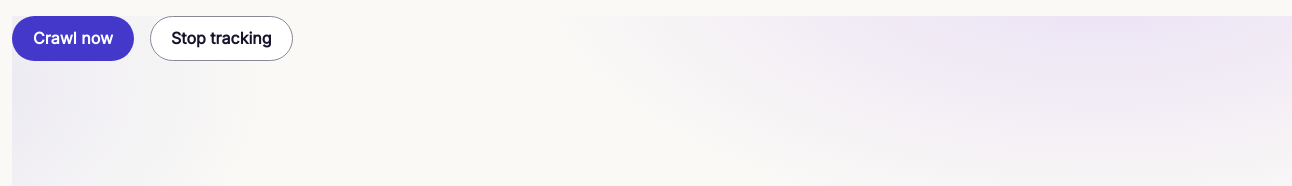
Test: CompanyActions › says why a button did not work
Step 1. Click the button named "Crawl Monzo now" → (73, 39), box [12,16,134,61]
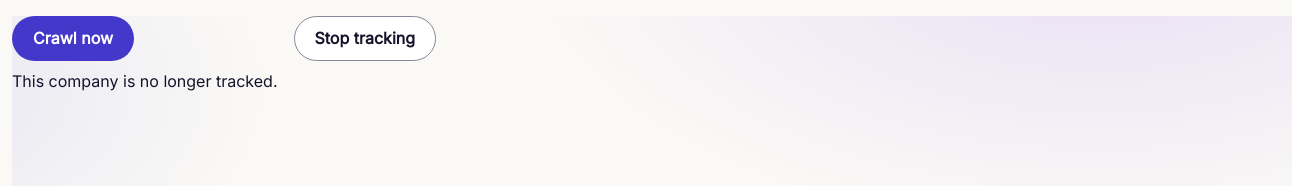
Result: the message reads "This company is no longer tracked." at [12,71,278,91]
